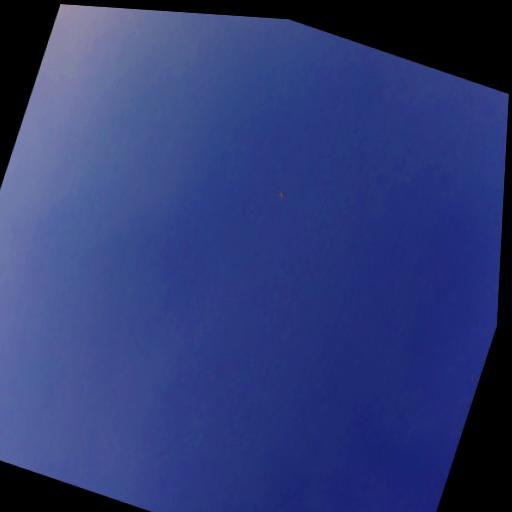drones: (277, 189, 288, 201)
